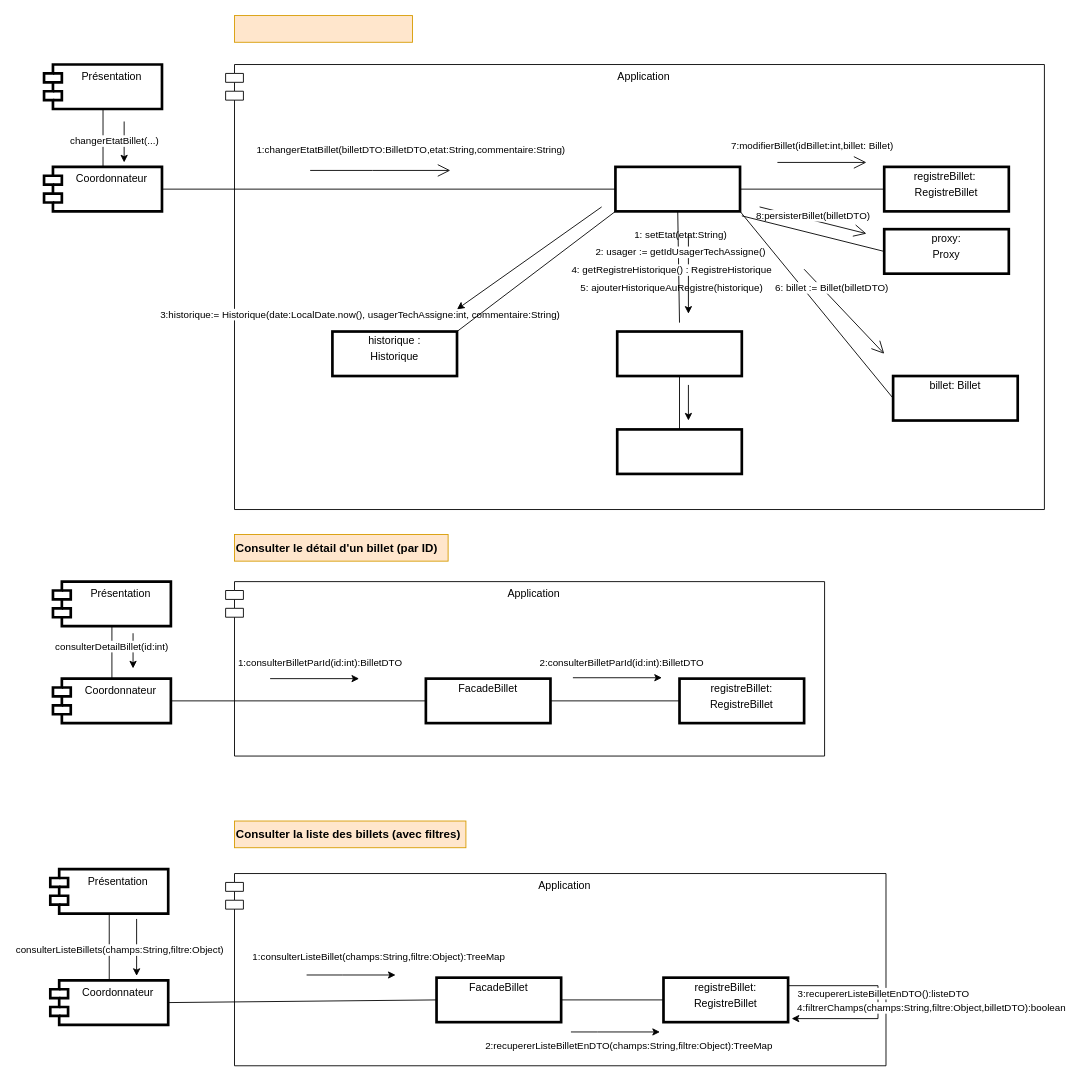
Some shapes in this 1080 by 1081 pixel diagram are drawn without their labels. Here are the shapes that lost their labels. From the top down, the box of each, then its label:
(234, 15, 413, 42): Diagramme de communication: Changer l'état d'un billet.
(614, 165, 741, 212): Facade Billet
(615, 330, 743, 377): billetDTO: BilletDTO
(615, 428, 743, 475): RegistreHistorique
